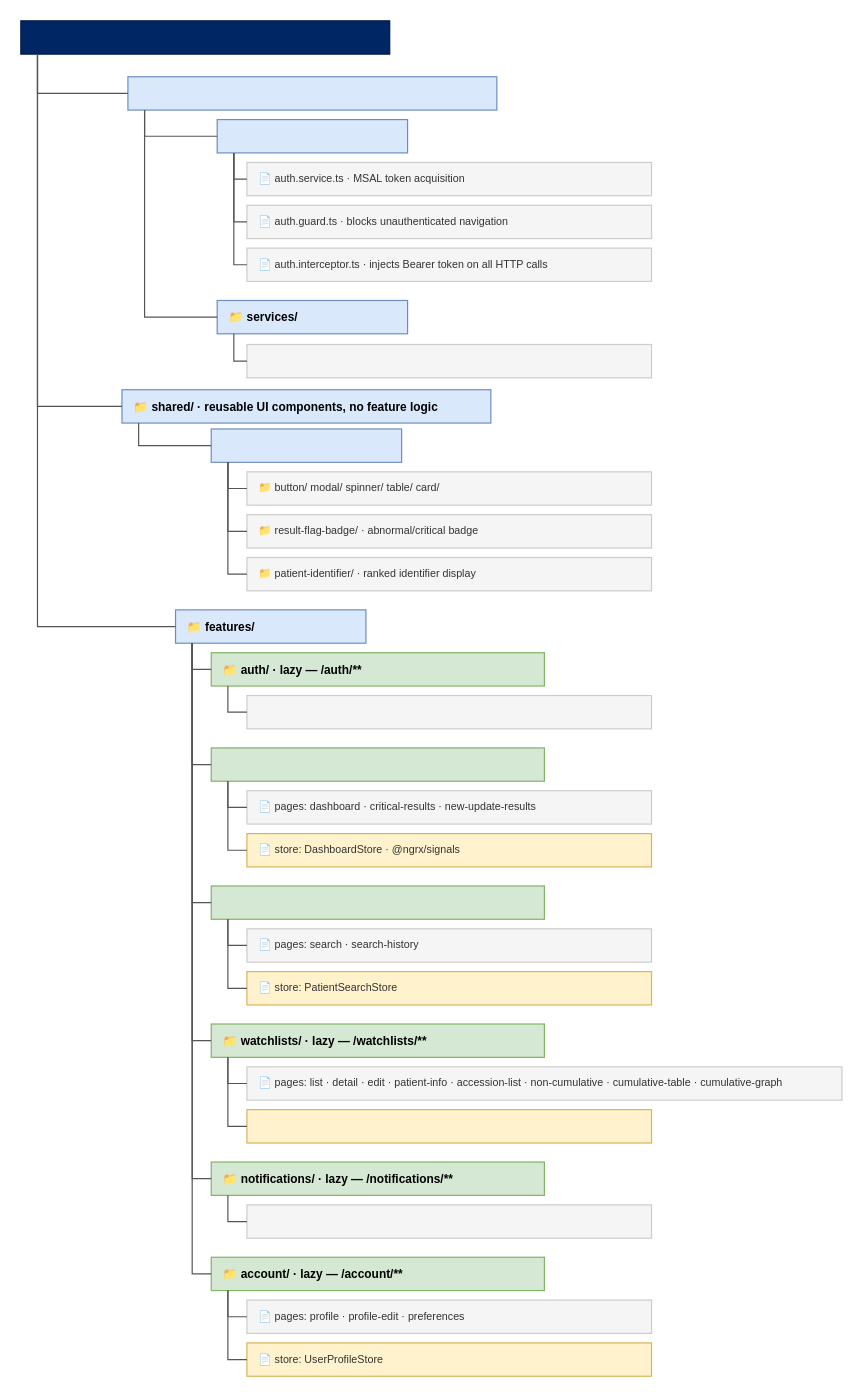
This 863x1397 diagram has some shape labels left out. Each missing label, with the centre of its shape:
"📁 app-pathworks-v2 / src/app/" belongs at point 205,37.
"📁 auth/" belongs at point 312,135.
"📁 components/" belongs at point 306,445.
"📁 core/ · singleton services, guards, interceptors" belongs at point 312,93.
"📁 home/ · lazy — /home/**" belongs at point 377,764.
"📁 patients/ · lazy — /patients/**" belongs at point 377,902.
"📄 error-handler.service.ts" belongs at point 449,360.
"📄 pages: login · register · callback · not-authorized" belongs at point 449,711.
"📄 pages: notification-history" belongs at point 449,1221.
"📄 store: WatchlistStore · AccessionStore" belongs at point 449,1125.
